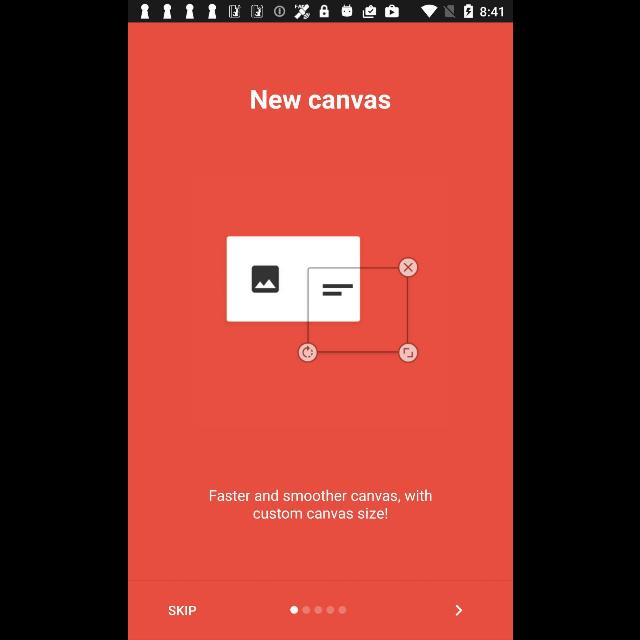icon: (454, 604, 462, 616)
image: (226, 236, 418, 364)
pageindicator: (290, 606, 346, 614)
text: (209, 489, 431, 519), (250, 90, 390, 110), (168, 606, 196, 614)
uppertaskbar: (128, 1, 512, 23)
